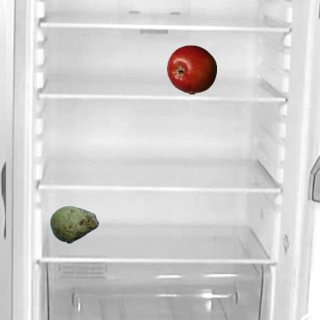Apple Braeburn: (166, 44, 216, 94)
Pear Stone: (49, 199, 99, 249)
